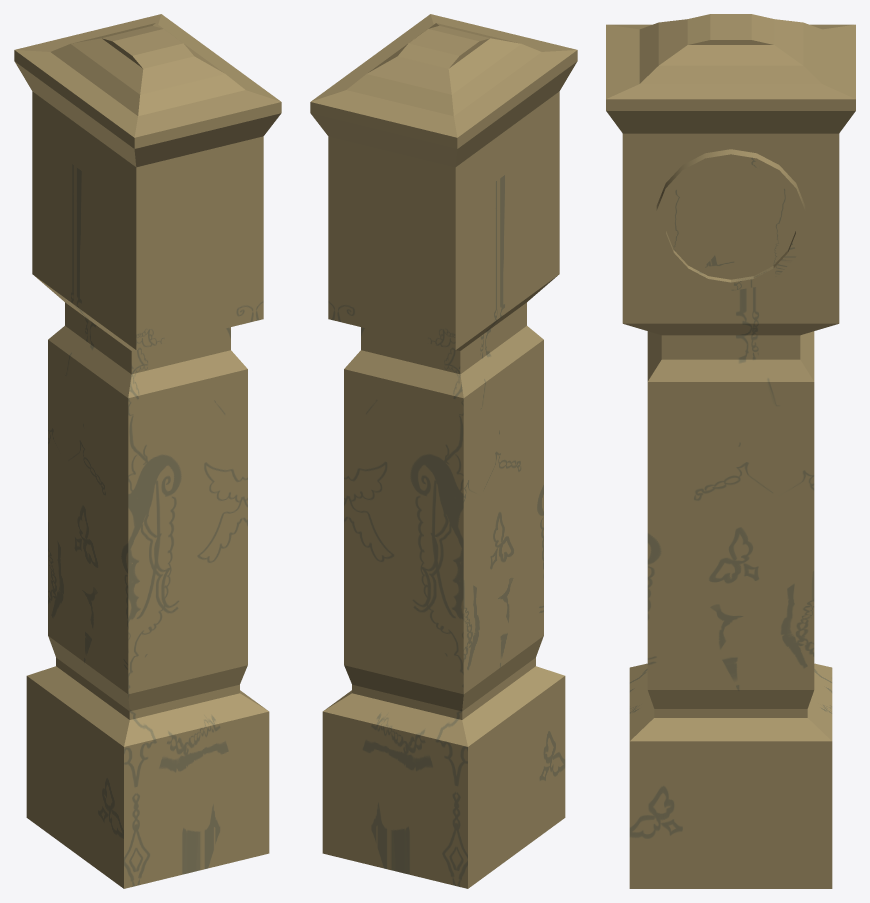
File: grandpa_clock.fbx
3 renders of one model, left to right at view 1: azimuth 30°, elevation 25°; view 2: azimuth 150°, elevation 25°; view 3: azimuth 270°, elevation 25°, orthographic. The views are drawn at different scales.
Parts seen in each view (by area): view 1: Cylinder001; view 2: Cylinder001; view 3: Cylinder001.
Boxes of the visible parts, left/top/right/bottom form: Cylinder001: left=14, top=14, right=281, bottom=888; Cylinder001: left=310, top=14, right=577, bottom=888; Cylinder001: left=606, top=14, right=855, bottom=888.
Bounding box in the file's own units: 9.29 × 47.75 × 13.11.
